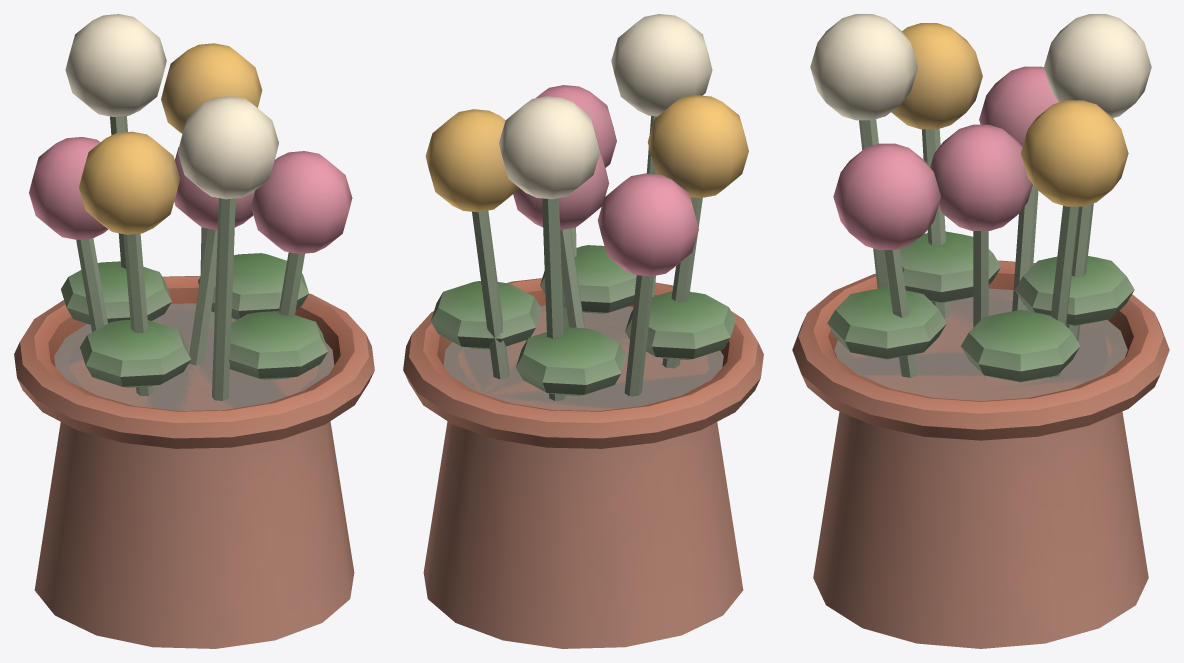
File: FlowerPot.fbx
3 renders of one model, left to right at view 1: azimuth 30°, elevation 25°; view 2: azimuth 150°, elevation 25°; view 3: azimuth 270°, elevation 25°, orthographic. The views are drawn at different scales.
Parts seen in each view (by area): view 1: FlowerPot; view 2: FlowerPot; view 3: FlowerPot.
Part boxes in pixels (left/top/right/bottom): FlowerPot: left=14, top=14, right=374, bottom=648; FlowerPot: left=403, top=14, right=763, bottom=648; FlowerPot: left=792, top=14, right=1169, bottom=648.
Size of the model in its own units: 69.3 by 111 by 69.3.
